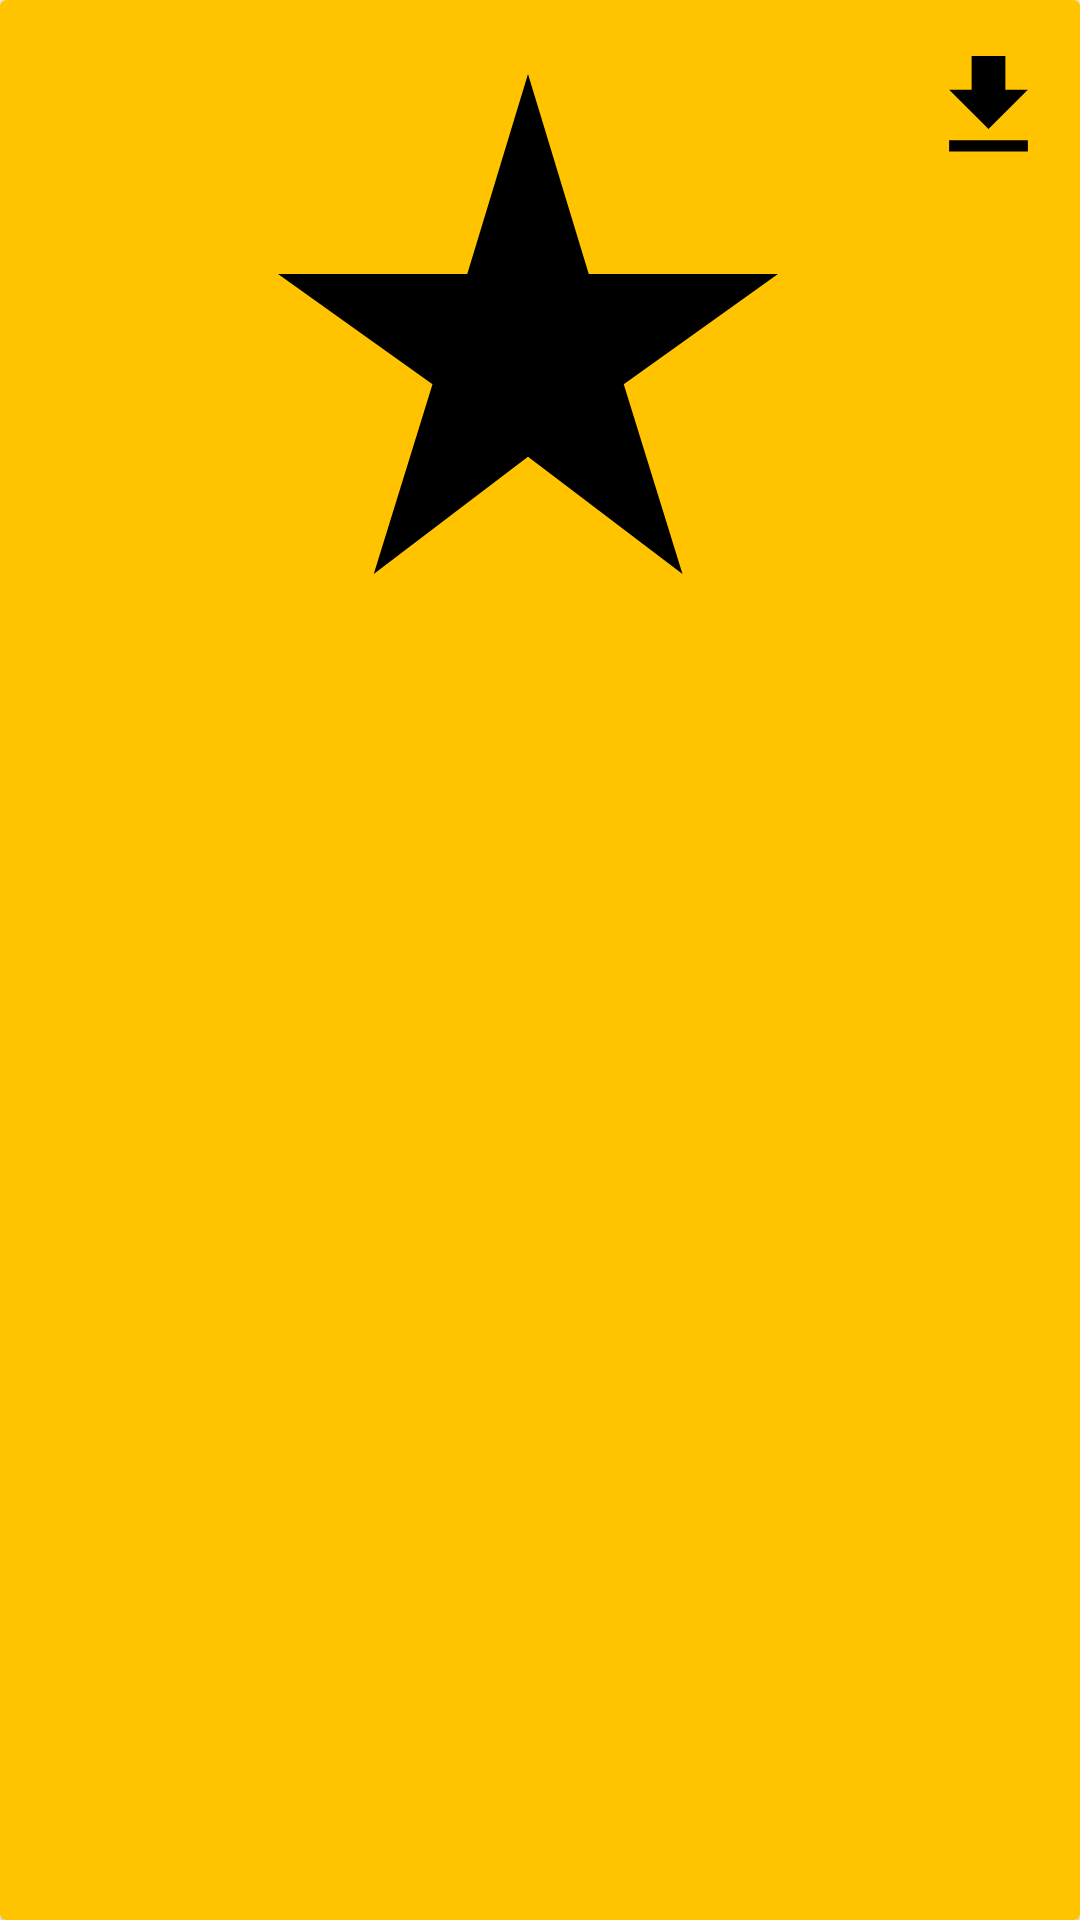

Named icons in this screenshot (1080*1920) and their bounding boxes, [x1=x1, y1=y1, x2=x2, y2=y2]:
download: [x1=949, y1=56, x2=1028, y2=152]
